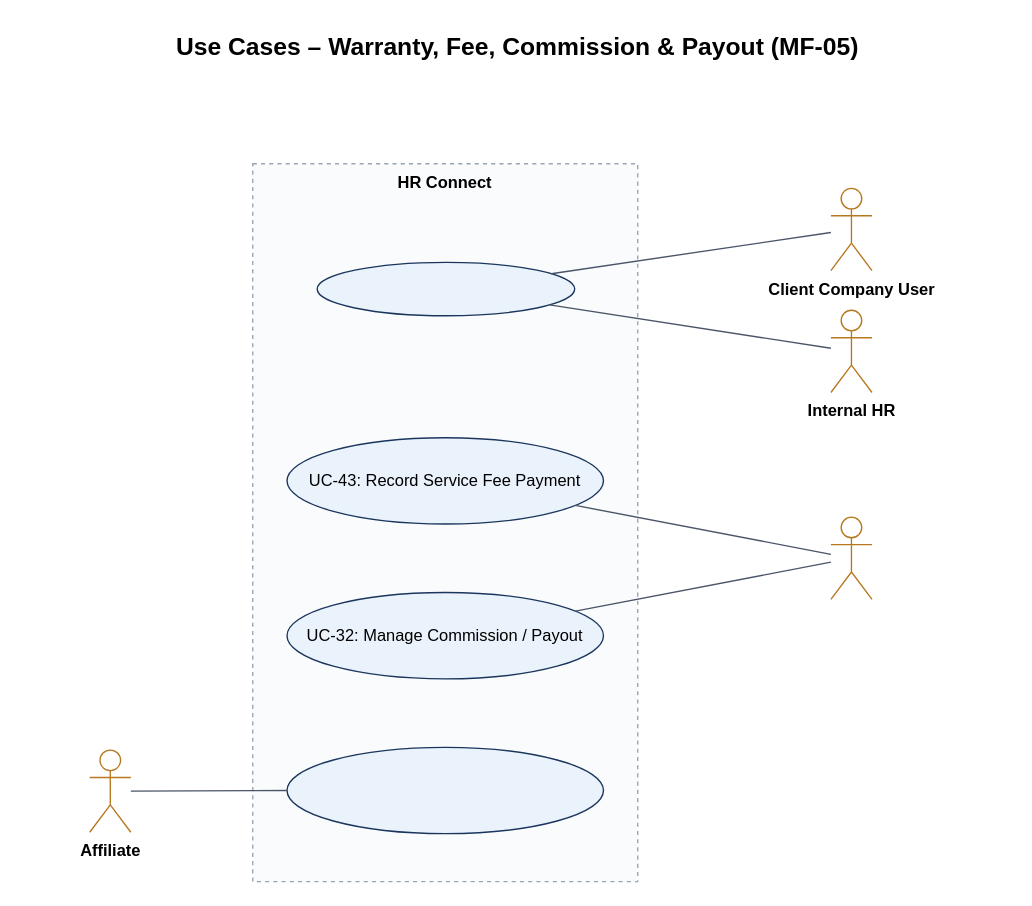
Image size: 1032x906. Some labels were removed from this diagram. The centre of each missing label's shape, as x and y in pixels:
"Platform Admin" goes at (851,557).
"UC-27: Track Warranty" goes at (445,288).
"UC-31: View Commission & Payout" goes at (444,790).
